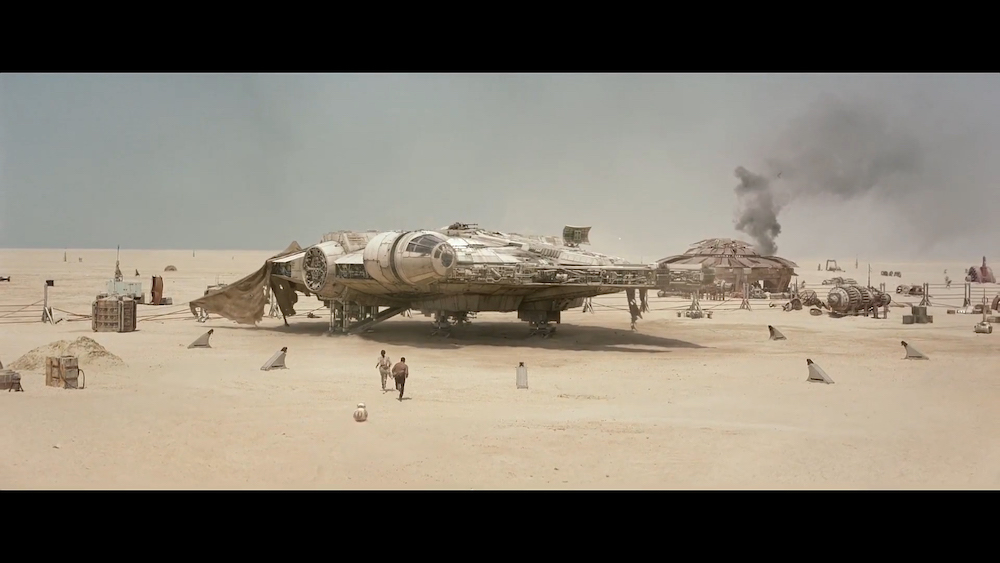Millennium Falcon: (268, 226, 715, 313)
Tie Fighter: (778, 172, 783, 179)
